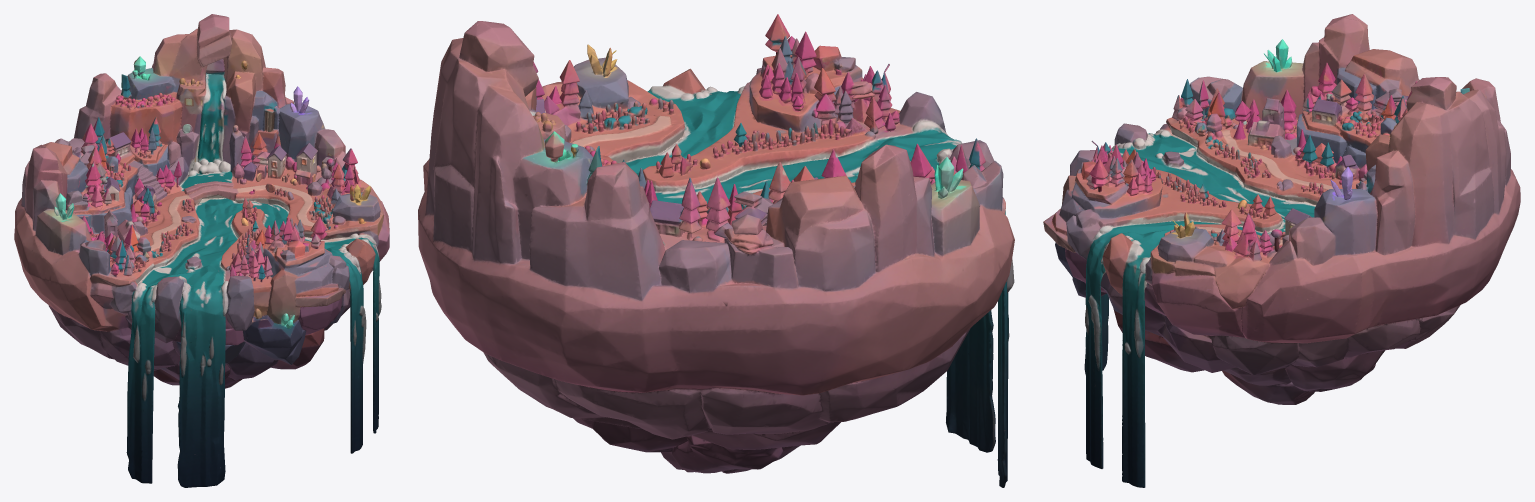
File: isle_hero.glb
The picture shows the model from 3 angles, left to right: view 1: azimuth 30°, elevation 25°; view 2: azimuth 150°, elevation 25°; view 3: azimuth 270°, elevation 25°; orthographic projection. The views are drawn at different scales.
Parts seen in each view (by area): view 1: mesh_node; view 2: mesh_node; view 3: mesh_node.
Part boxes in pixels (x1,y1,x2,y2): mesh_node: (14,14,389,487); mesh_node: (418,14,1014,487); mesh_node: (1043,14,1520,487).
Bounding box in the file's own units: 1.8 × 1.71 × 1.9.
1 material, 1 textured.
